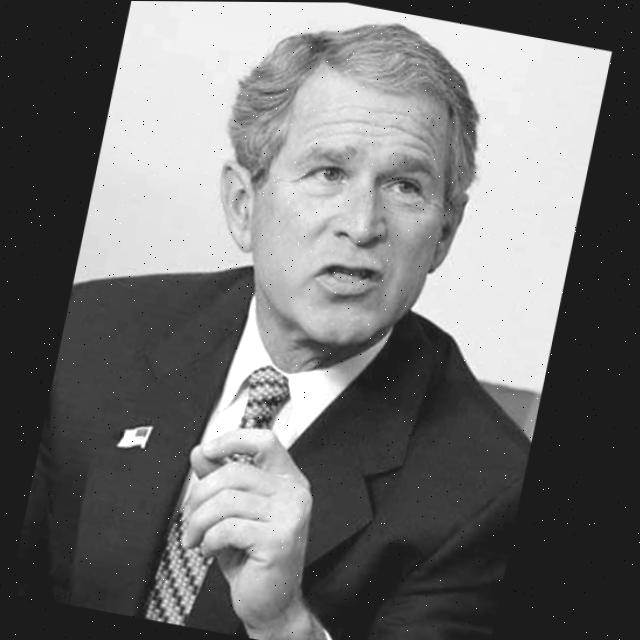face: (184, 47, 492, 368)
